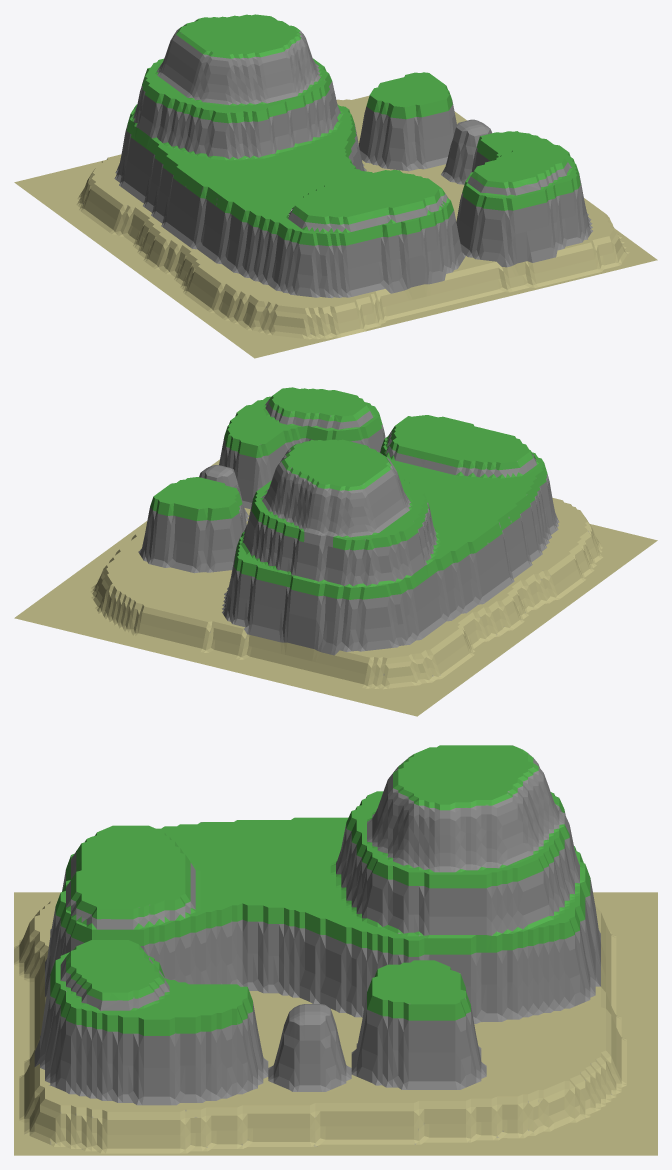
Rendered from EastIslandTerrain.fbx.
3 renders of one model, top to bottom at view 1: azimuth 30°, elevation 25°; view 2: azimuth 150°, elevation 25°; view 3: azimuth 270°, elevation 25°, orthographic. The views are drawn at different scales.
Visible parts, largest first — view 1: Plane.001; view 2: Plane.001; view 3: Plane.001.
Boxes of the visible parts, box(x1,y1,x2,y2) form: Plane.001: box(14, 14, 657, 358); Plane.001: box(14, 387, 657, 716); Plane.001: box(14, 745, 657, 1155).
Bounding box in the file's own units: 9375 × 3643 × 9688.
